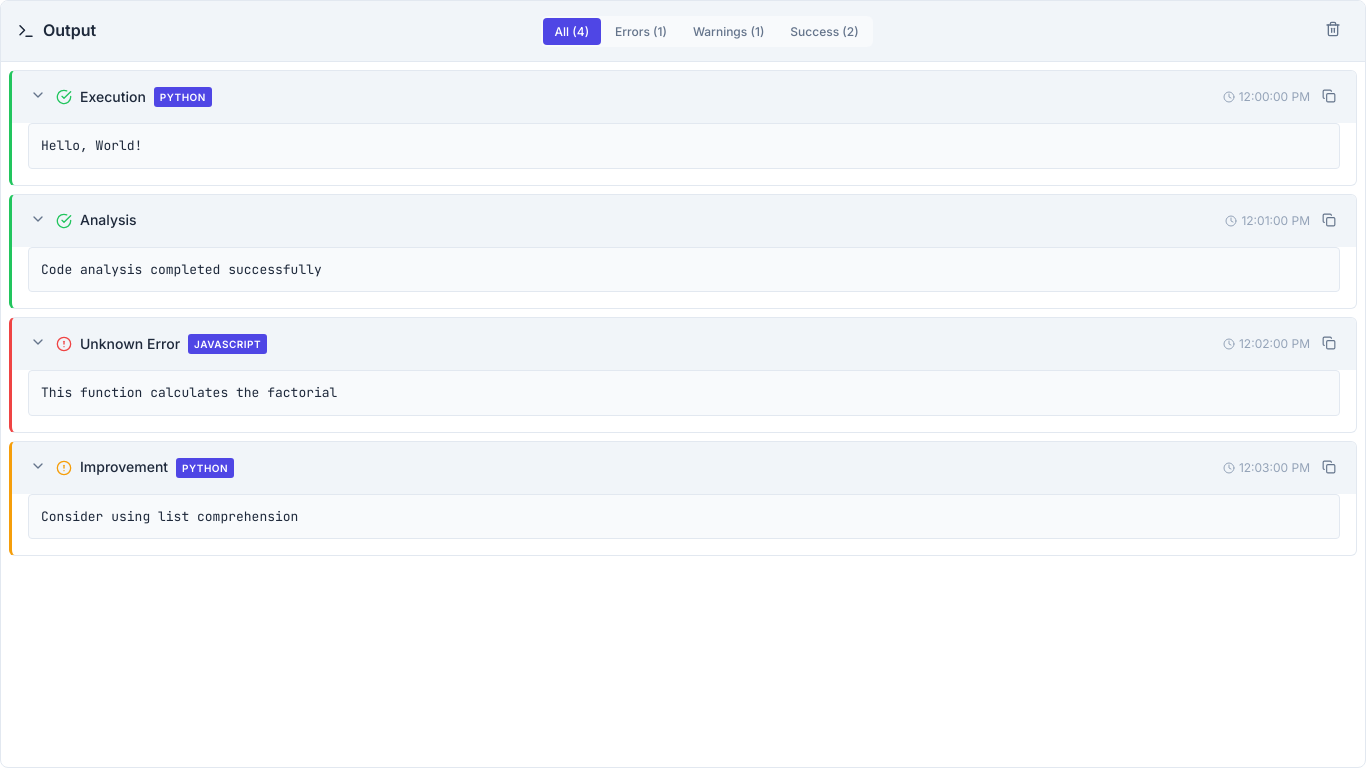
OutputPanel Component › Tab Filtering › should filter to warnings only when warnings tab is clicked
What coordinates should you click on to do the following:
click the button "Warnings (1)"
I would click on:
 (729, 31)
Its box is 681,18 -> 776,44.
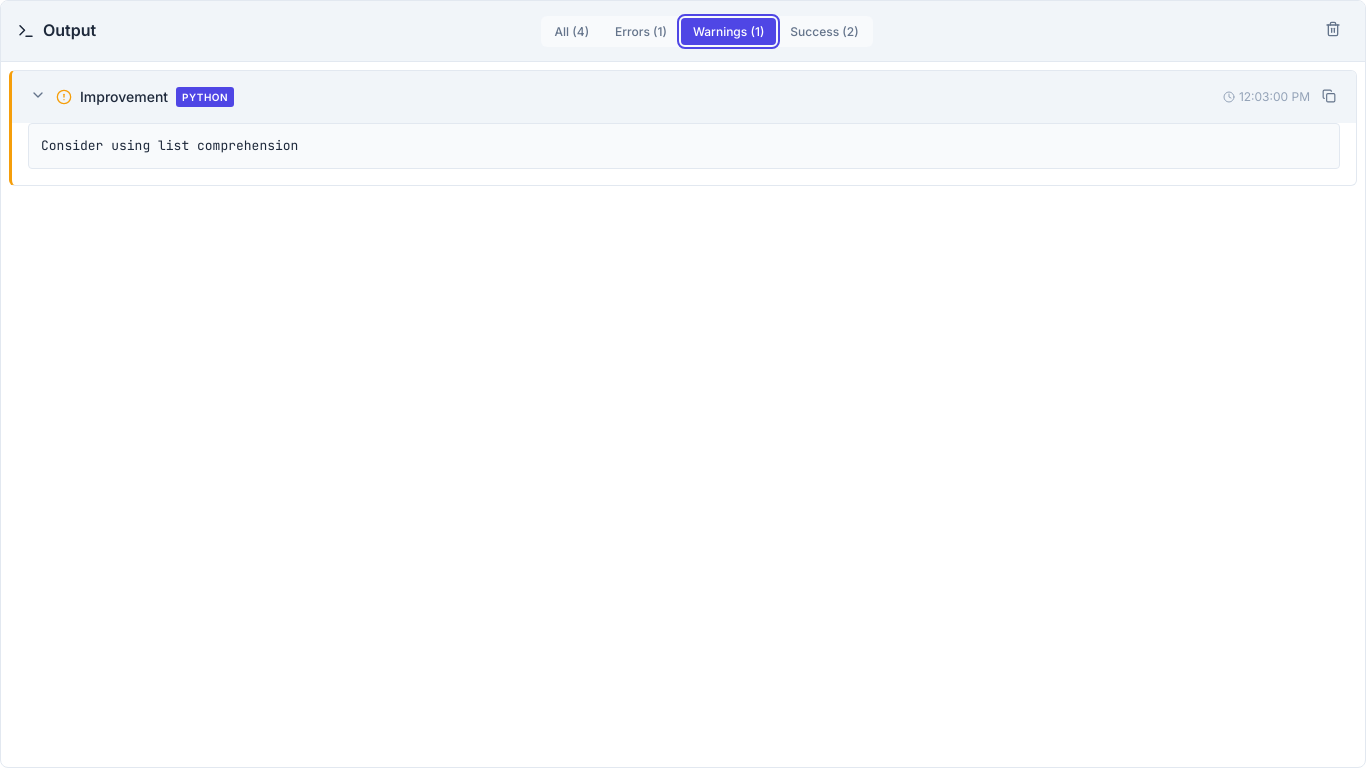
Expected: the text "Hello, World!" is gone
Expected: the text "Code analysis completed successfully" is gone
Expected: the text "This function calculates the factorial" is gone
